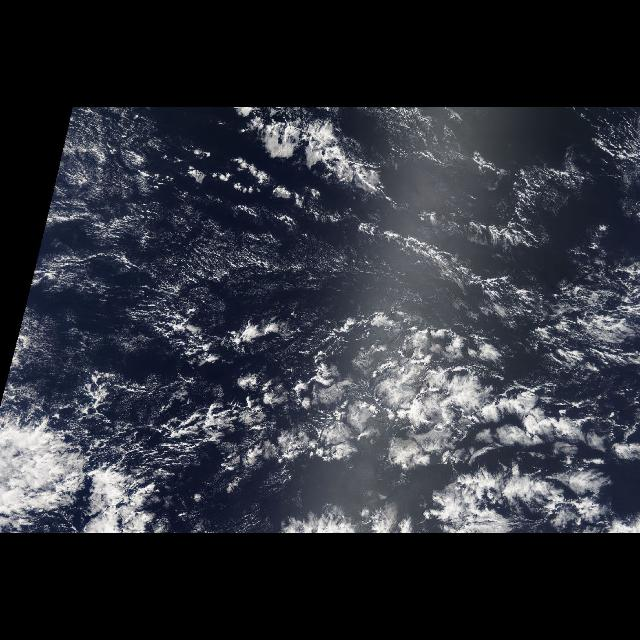Fish: (219, 108, 545, 308)
Flower: (205, 280, 639, 518)
Sugar: (8, 110, 390, 386)
